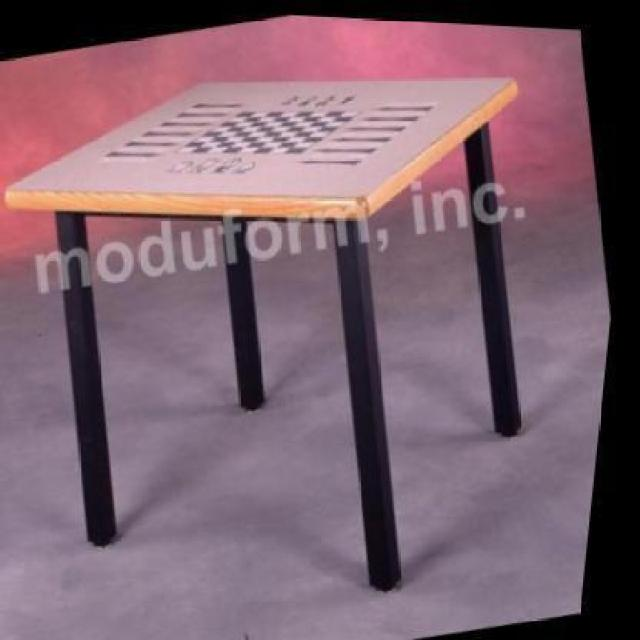tables: (3, 74, 522, 591)
